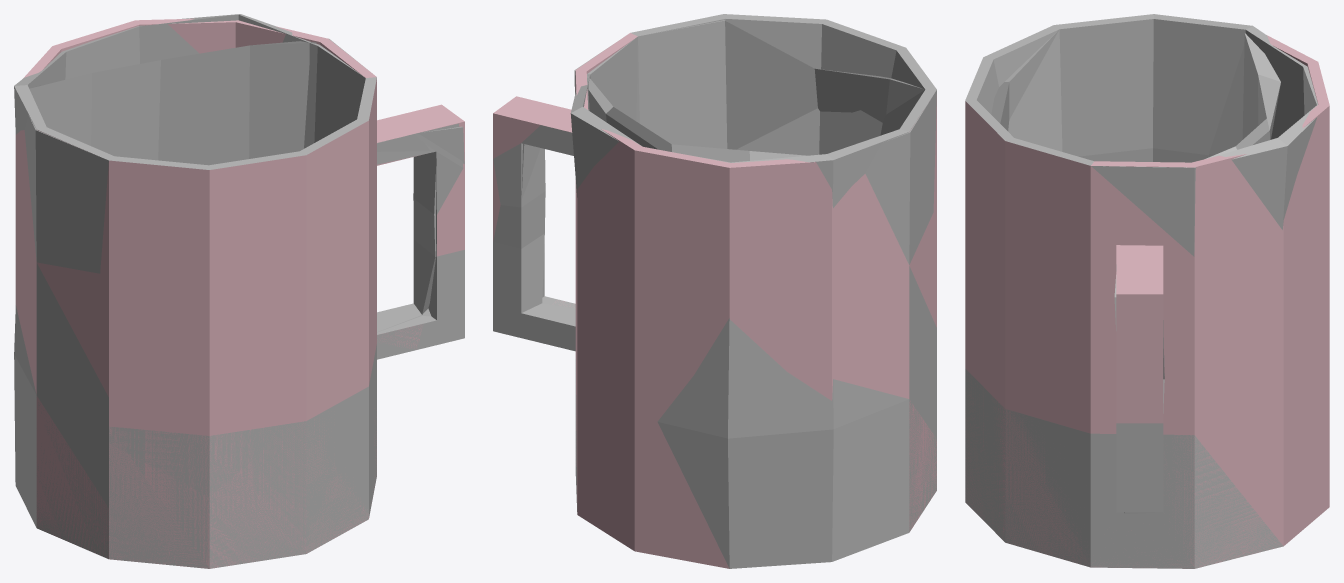
File: Cup1.fbx
3 renders of one model, left to right at view 1: azimuth 30°, elevation 25°; view 2: azimuth 150°, elevation 25°; view 3: azimuth 270°, elevation 25°, orthographic.
Parts seen in each view (by area): view 1: CupGlass1.3, CupMetal1.4, CupMetal1.5, CupGlass1.2, CupGlass1.1; view 2: CupGlass1.3, CupMetal1.4, CupMetal1.5, CupGlass1.2, CupGlass1.1; view 3: CupGlass1.3, CupMetal1.4, CupGlass1.1, CupMetal1.5, CupGlass1.2.
Part boxes in pixels (x1,y1,x2,y2): CupGlass1.3: [15, 20, 422, 568]; CupMetal1.4: [14, 14, 464, 568]; CupMetal1.5: [24, 39, 464, 507]; CupGlass1.2: [15, 43, 464, 567]; CupGlass1.1: [136, 18, 464, 255]; CupGlass1.3: [549, 33, 936, 568]; CupMetal1.4: [521, 14, 936, 568]; CupMetal1.5: [493, 20, 936, 438]; CupGlass1.2: [493, 94, 936, 567]; CupGlass1.1: [493, 70, 641, 548]; CupGlass1.3: [965, 62, 1329, 568]; CupMetal1.4: [965, 14, 1317, 568]; CupGlass1.1: [1116, 104, 1329, 543]; CupMetal1.5: [991, 17, 1280, 568]; CupGlass1.2: [1116, 35, 1329, 542].
Size of the model in its own units: 13.46 by 12.68 by 10.28.
